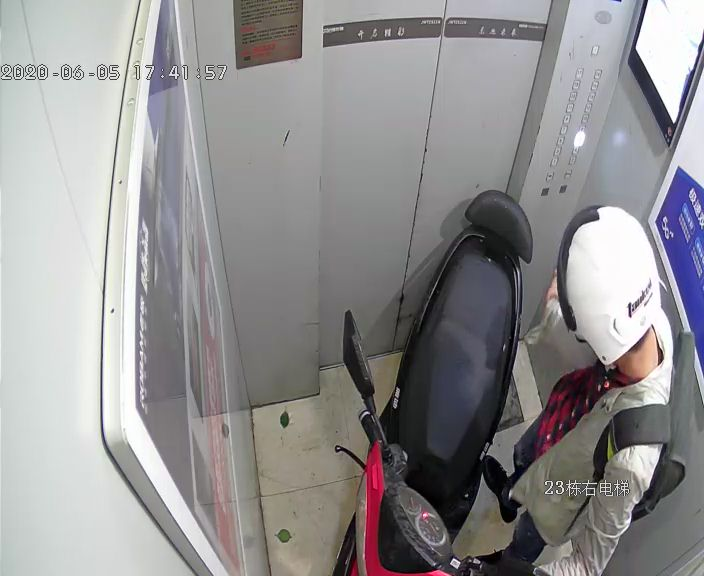Electric-bicycle: (328, 187, 535, 576)
